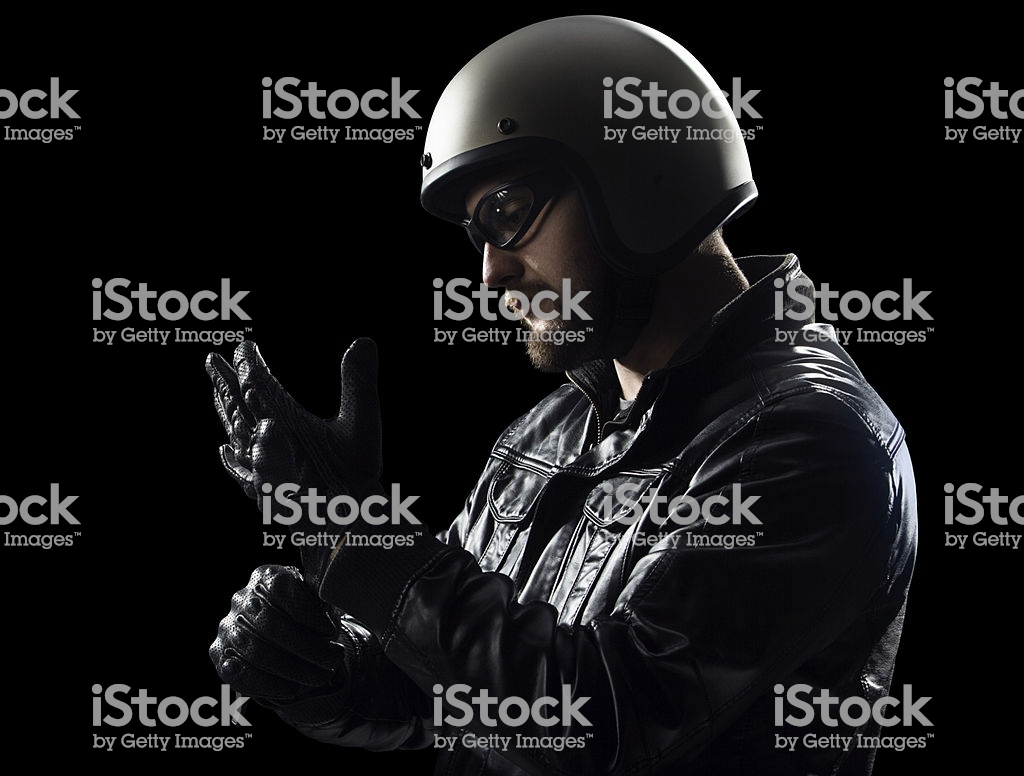helmet: (396, 20, 770, 195)
